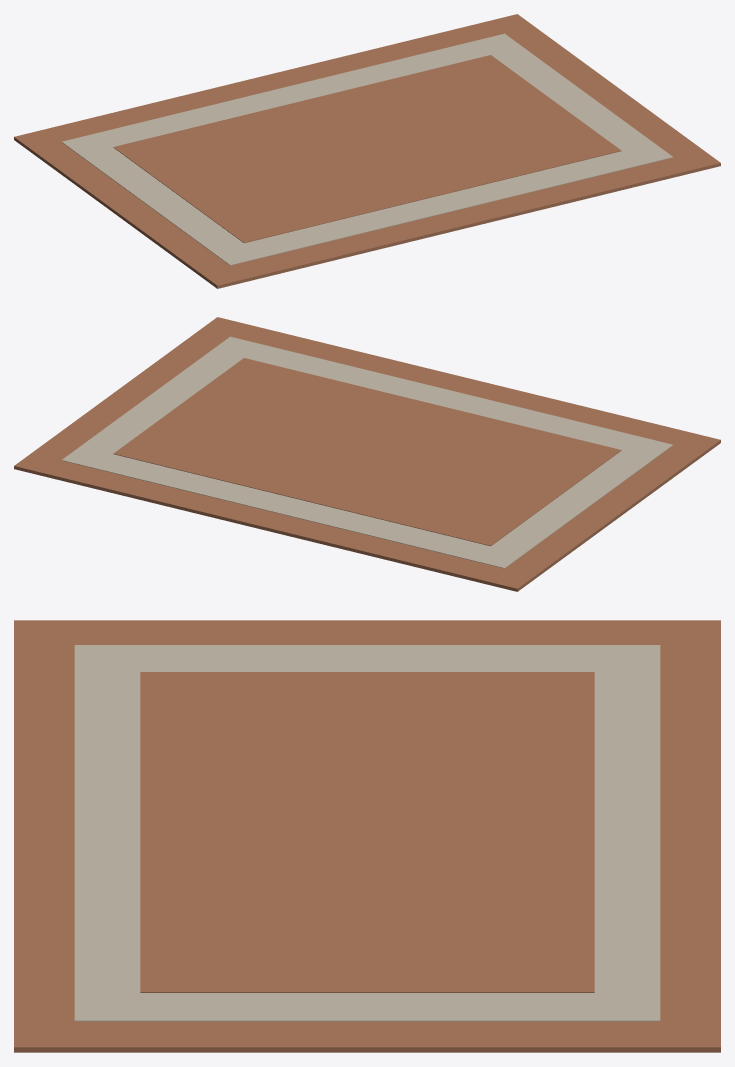
Rendered from rug.glb.
3 views of the same model, one above another, from view 1: azimuth 30°, elevation 25°; view 2: azimuth 150°, elevation 25°; view 3: azimuth 270°, elevation 25° (orthographic). The views are drawn at different scales.
Parts seen in each view (by area): view 1: rug; view 2: rug; view 3: rug.
Part boxes in pixels (x1,y1,x2,y2): rug: (14, 14, 720, 288); rug: (14, 317, 720, 591); rug: (14, 620, 720, 1052).
Bounding box in the file's own units: 2 × 0.016 × 1.4.
